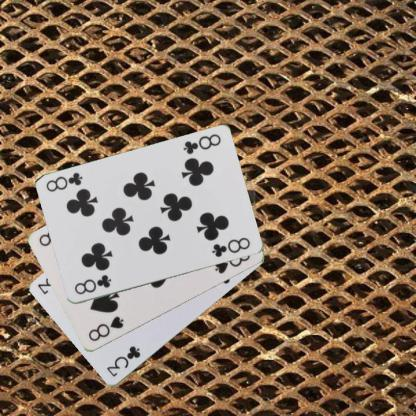3c: (104, 344, 142, 378)
8c: (180, 131, 222, 156), (72, 272, 112, 297)
8s: (85, 314, 125, 343)
